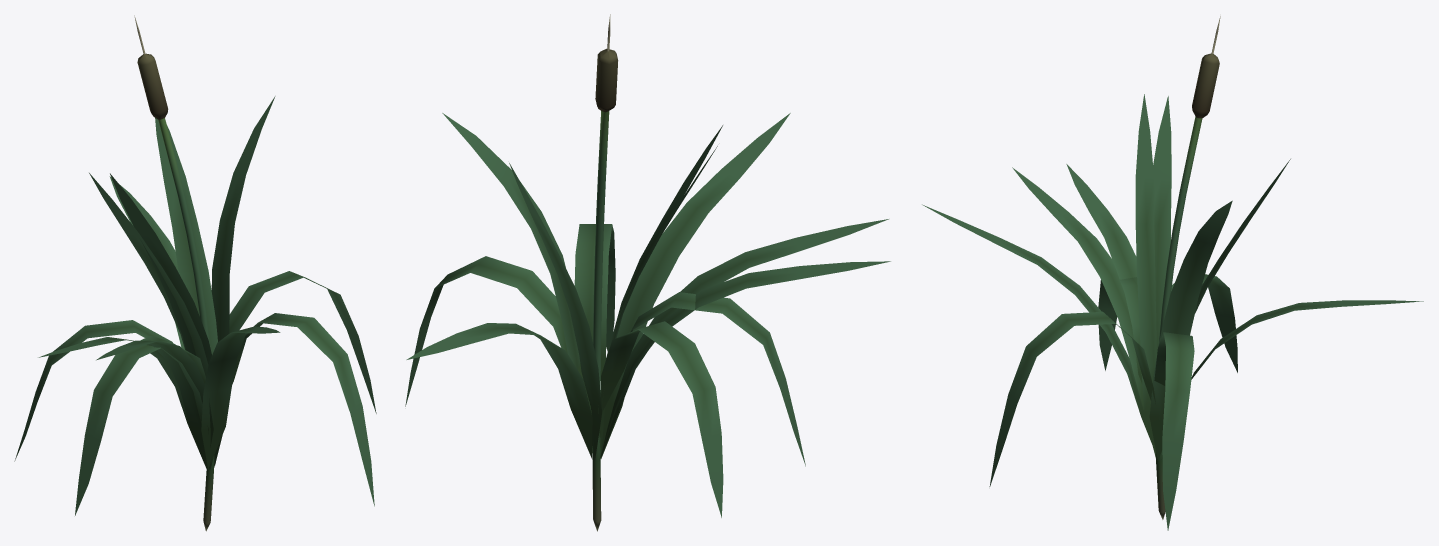
The model's file is plants-grasses-reeds-cattail_v1.glb.
3 views of the same model, side by side, from view 1: azimuth 30°, elevation 25°; view 2: azimuth 150°, elevation 25°; view 3: azimuth 270°, elevation 25° (orthographic). The views are drawn at different scales.
Parts seen in each view (by area): view 1: Cattail_v1; view 2: Cattail_v1; view 3: Cattail_v1.
Boxes of the visible parts, x1,y1,x2,y2 form: Cattail_v1: (14,15,376,531); Cattail_v1: (405,14,890,531); Cattail_v1: (922,16,1423,530).
Size of the model in its own units: 1.22 by 1.5 by 1.41.
